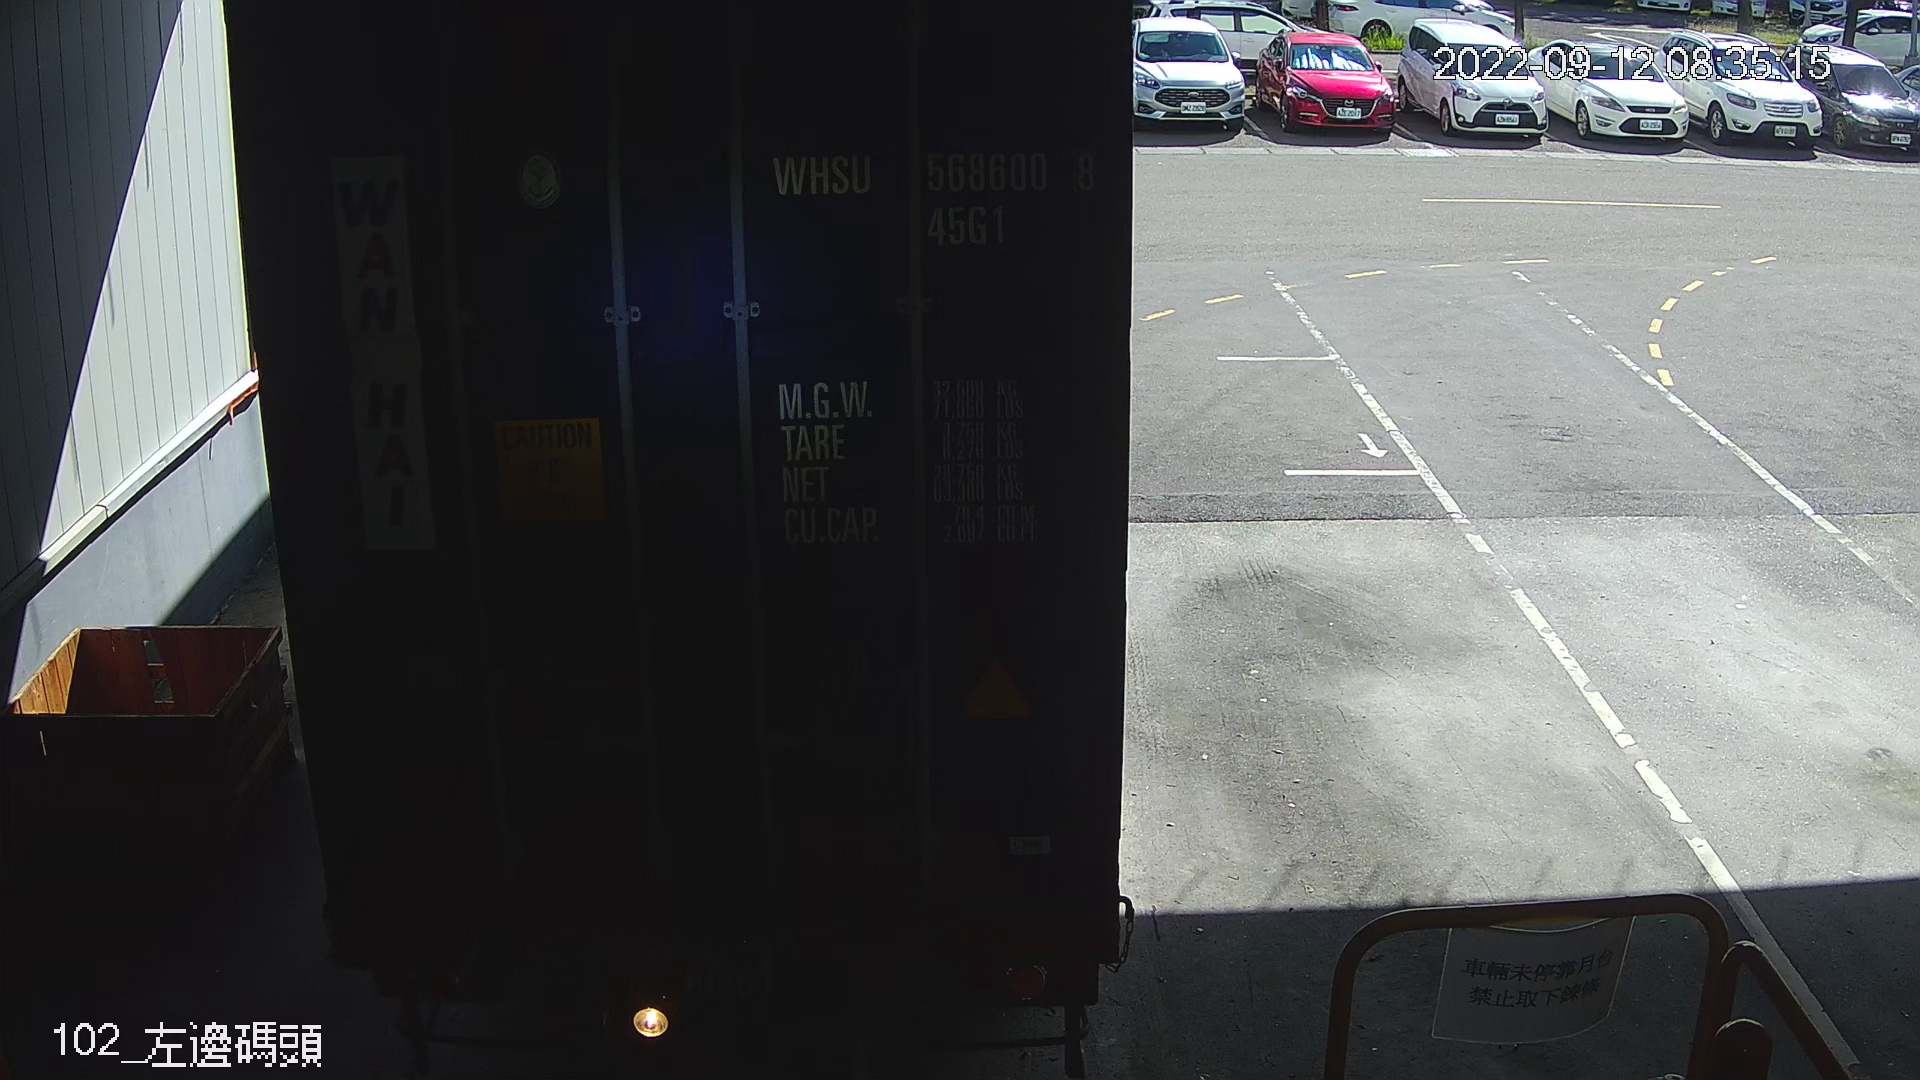container: (756, 135, 1109, 261)
